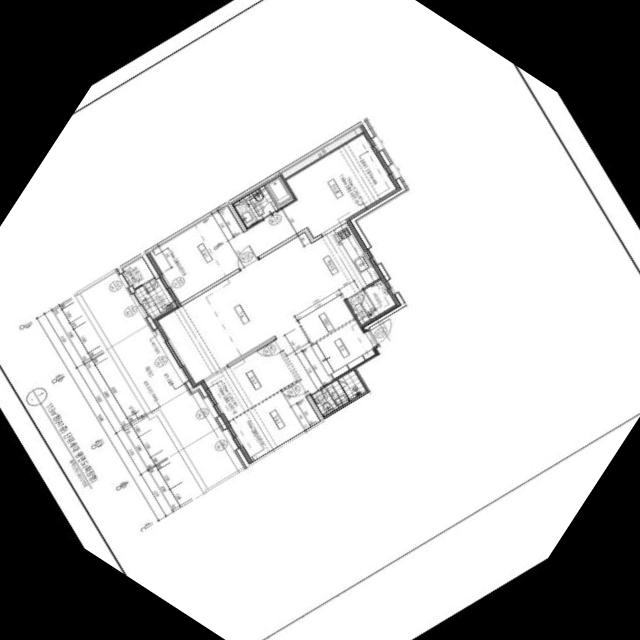background: (0, 0, 640, 640)
space_balconi: (134, 277, 171, 318)
space_bedroom: (145, 202, 306, 304), (200, 340, 295, 422), (225, 381, 319, 463)
space_dressroom: (285, 131, 400, 237)
space_front: (310, 319, 377, 379)
space_kitchen: (258, 220, 382, 326)
space_living_room: (152, 259, 332, 393)
space_multipurpose_space: (346, 277, 397, 324)
space_other: (280, 124, 364, 178), (300, 299, 353, 342)
space_outdoor_room: (121, 256, 153, 288)
space_toilet: (231, 175, 293, 227), (309, 368, 367, 417)
